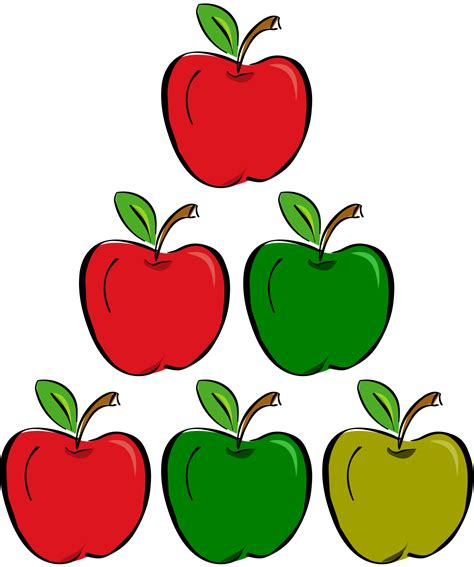apple: (158, 39, 318, 191), (159, 418, 314, 567), (320, 420, 474, 567), (78, 237, 235, 377), (244, 236, 395, 375), (1, 427, 151, 563)
